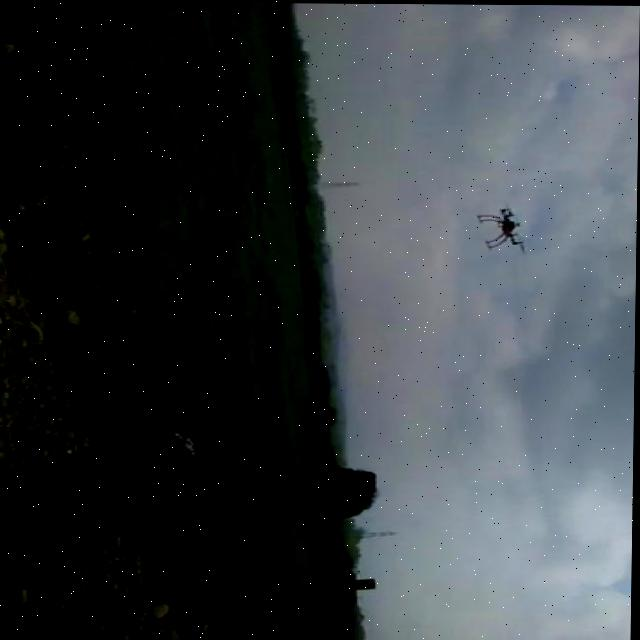drone: (478, 203, 533, 255)
